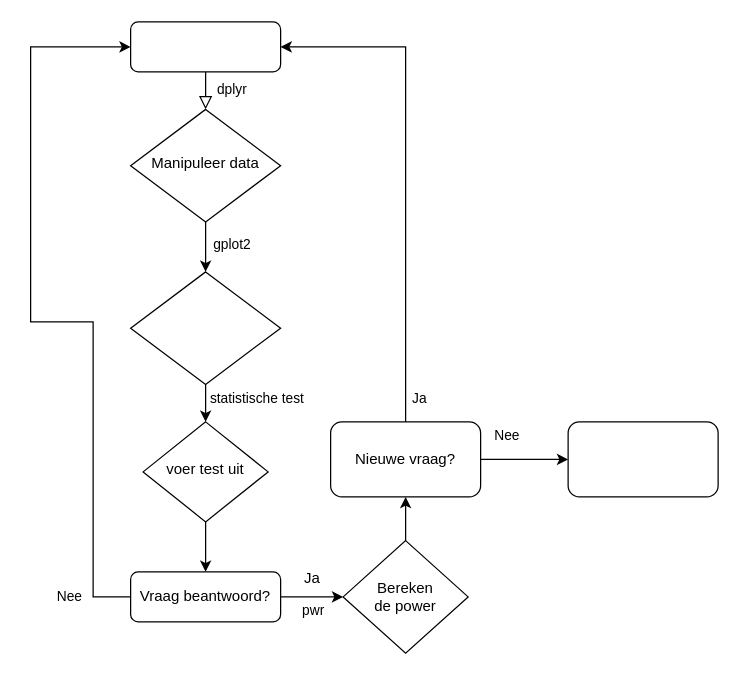
Some shapes in this 740 by 675 pixel diagram are drawn without their labels. The centre of each missing label's shape, as x and y in pixels:
"Conclusie/Discussie" belongs at (x=642, y=459).
"Visualiseer data" belongs at (x=205, y=327).
"Vraag" belongs at (x=205, y=46).
